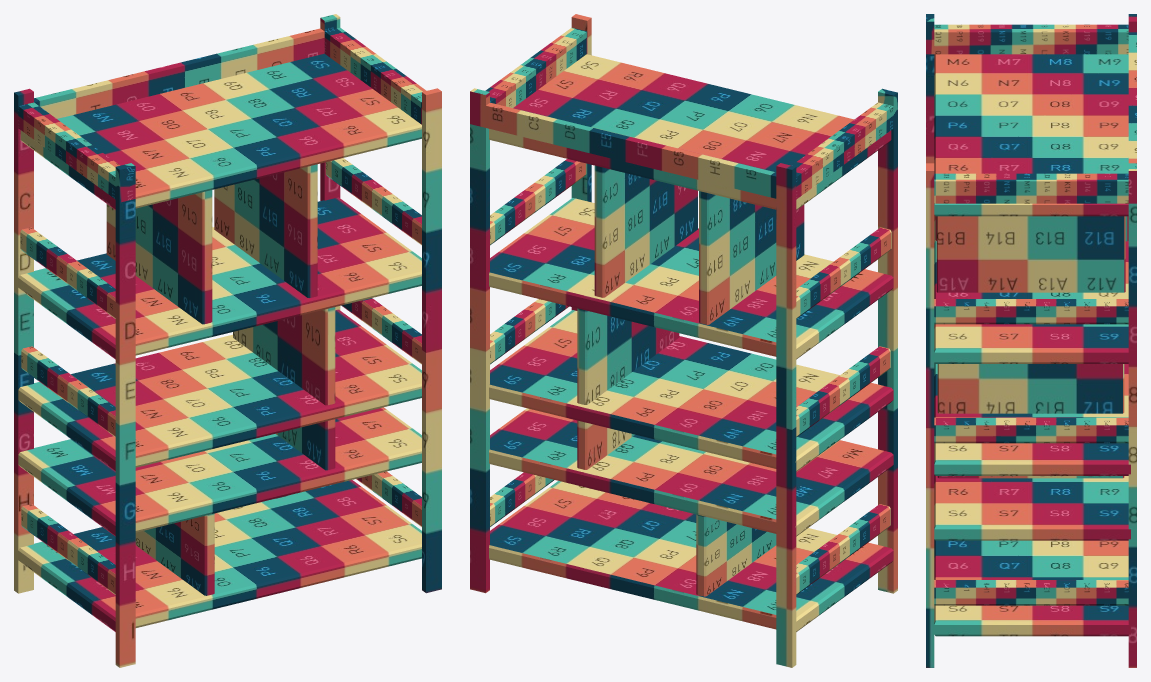
Rendered from shelf.fbx.
3 renders of one model, left to right at view 1: azimuth 30°, elevation 25°; view 2: azimuth 150°, elevation 25°; view 3: azimuth 270°, elevation 25°, orthographic.
Parts seen in each view (by area): view 1: shelf1; view 2: shelf1; view 3: shelf1.
Boxes of the visible parts, box(x1,y1,x2,y2) form: shelf1: box(14, 14, 441, 667); shelf1: box(470, 14, 897, 667); shelf1: box(926, 14, 1136, 667).
Size of the model in its own units: 101 by 149 by 57.41.
